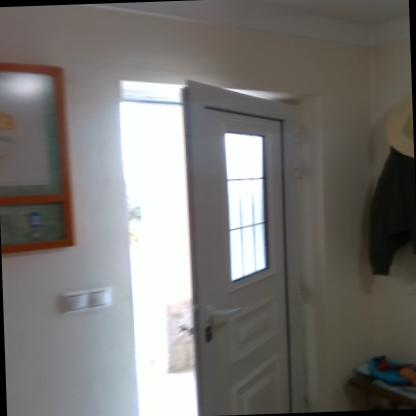semi: (98, 64, 340, 416)
